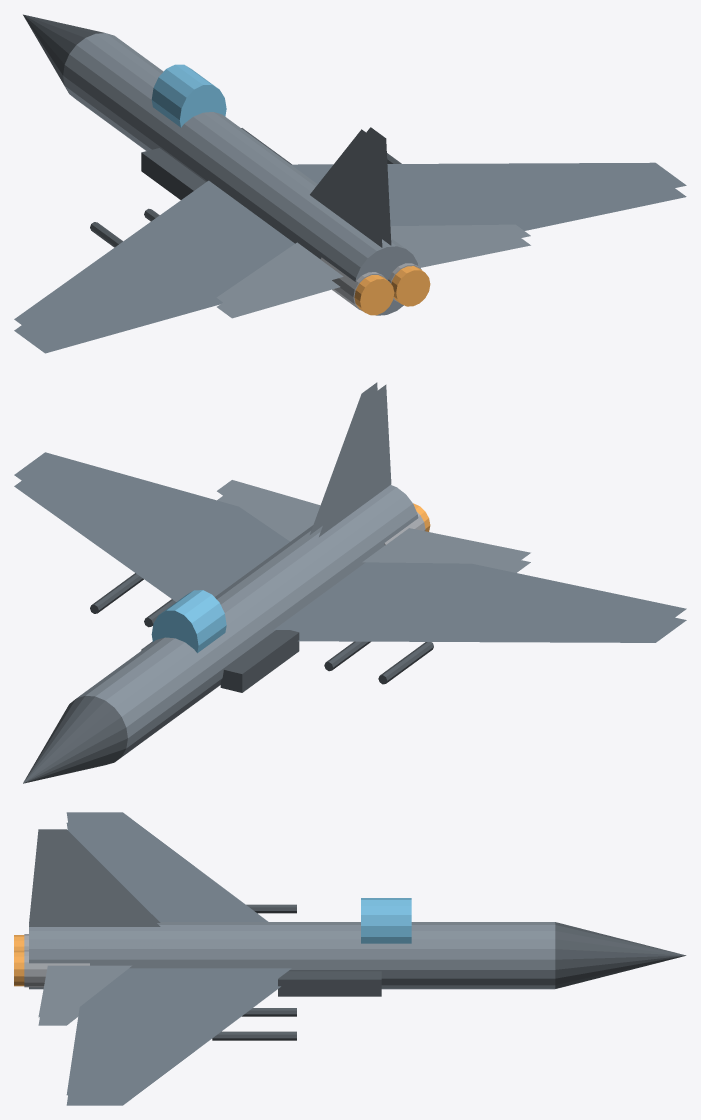
The model's file is jet_fighter.glb.
The picture shows the model from 3 angles, top to bottom: view 1: azimuth 30°, elevation 25°; view 2: azimuth 150°, elevation 25°; view 3: azimuth 270°, elevation 25°; orthographic projection. The views are drawn at different scales.
Size of the model in its own units: 3.56 by 0.91 by 3.58.
